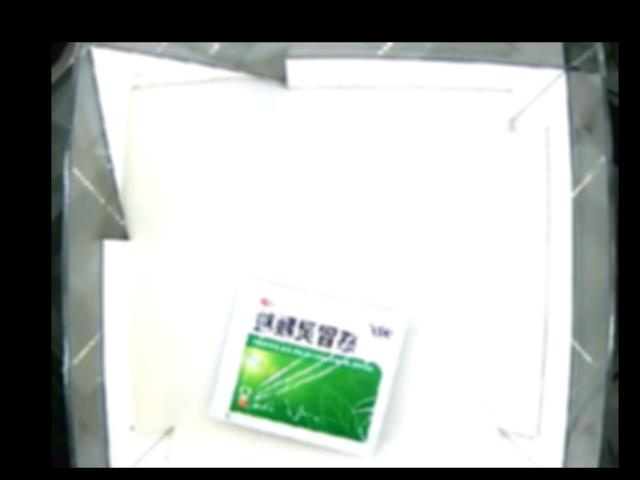Medicine: (207, 275, 413, 456)
